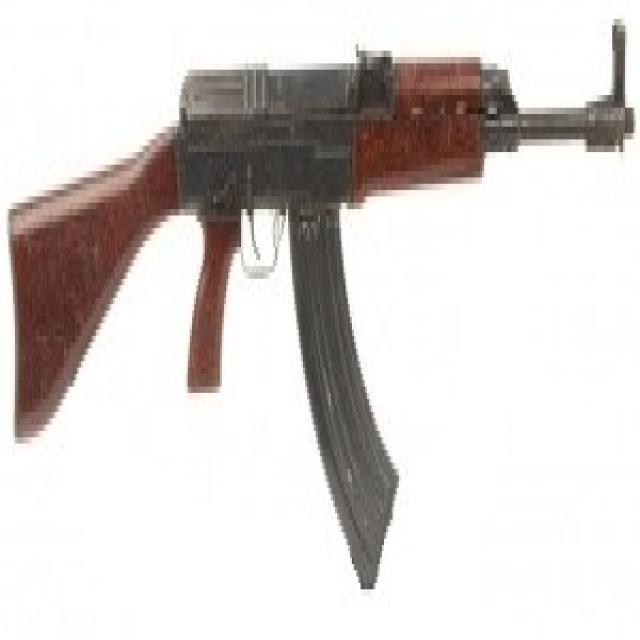rifle: (12, 10, 640, 609)
